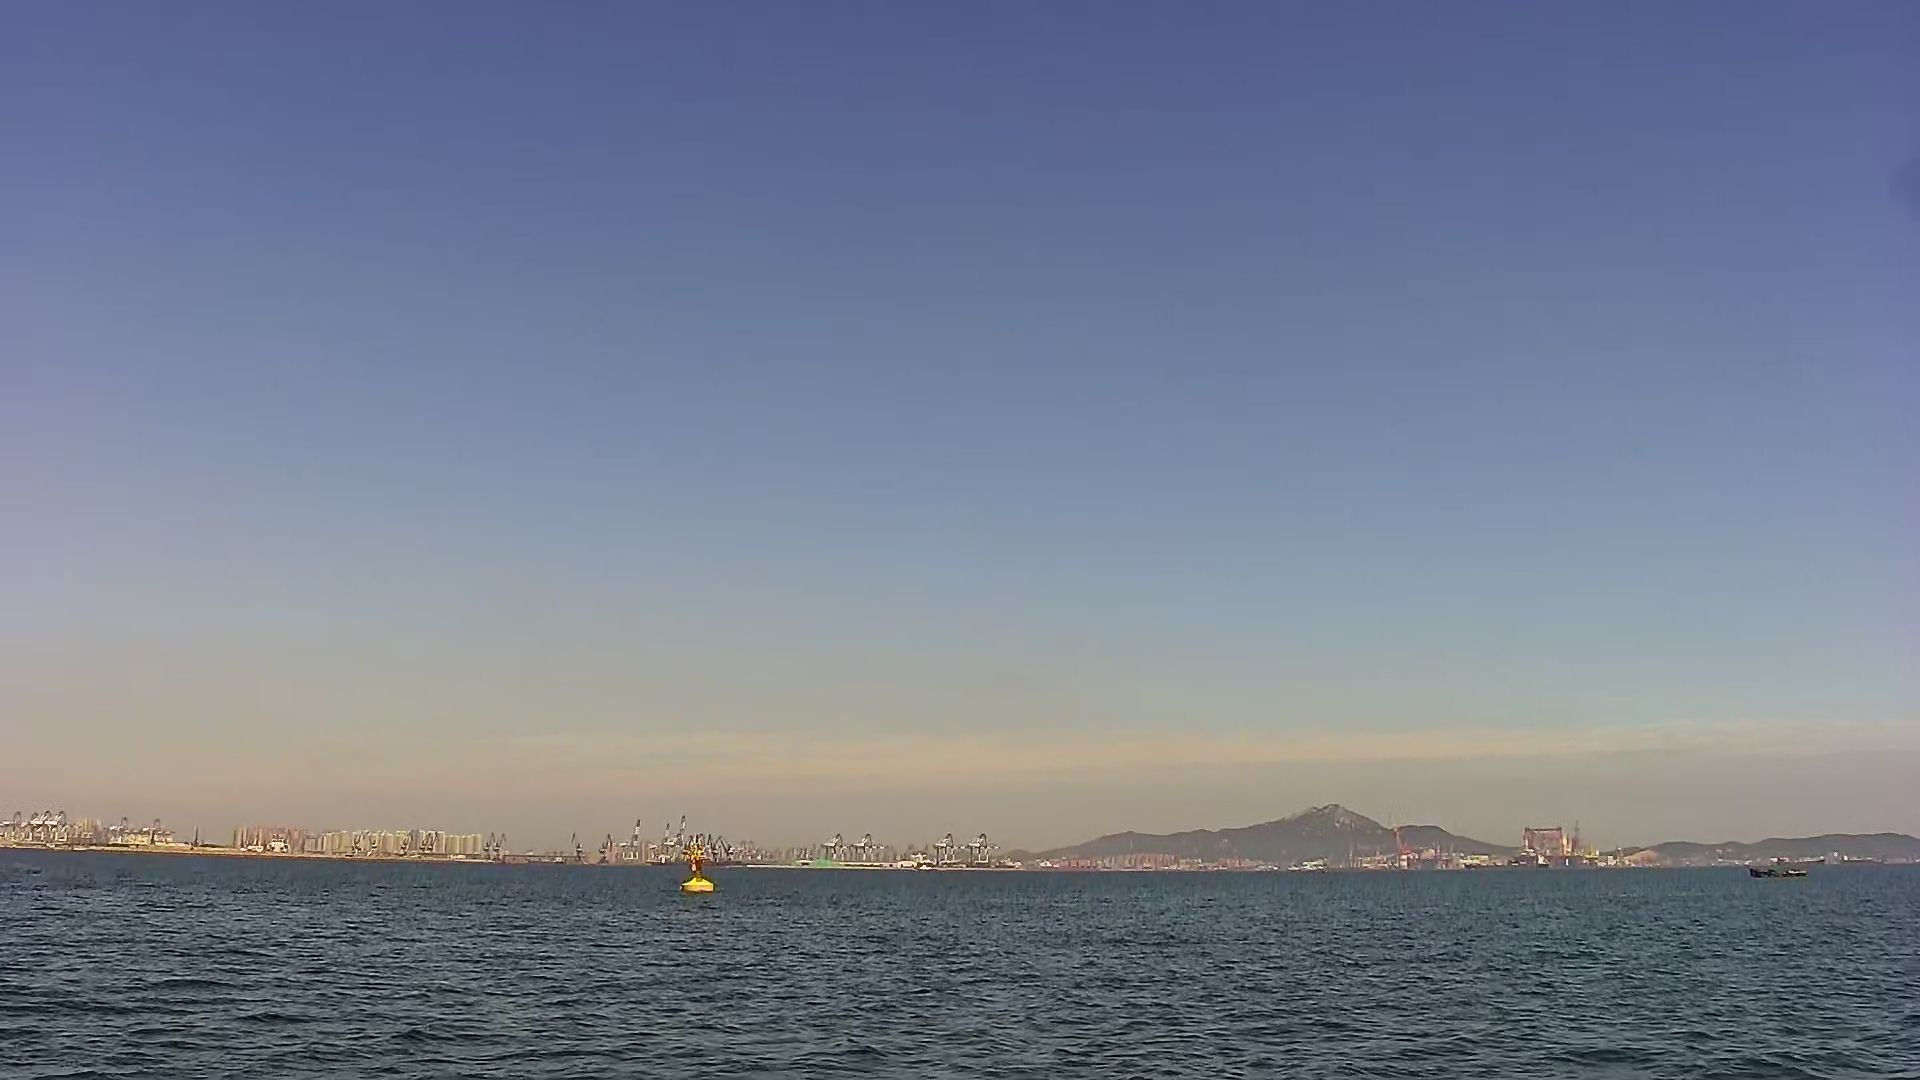boat: (1750, 865, 1812, 880)
buoy: (676, 853, 717, 893)
